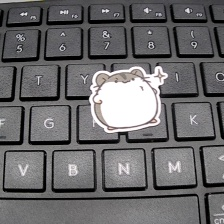mouse: (85, 62, 172, 138)
